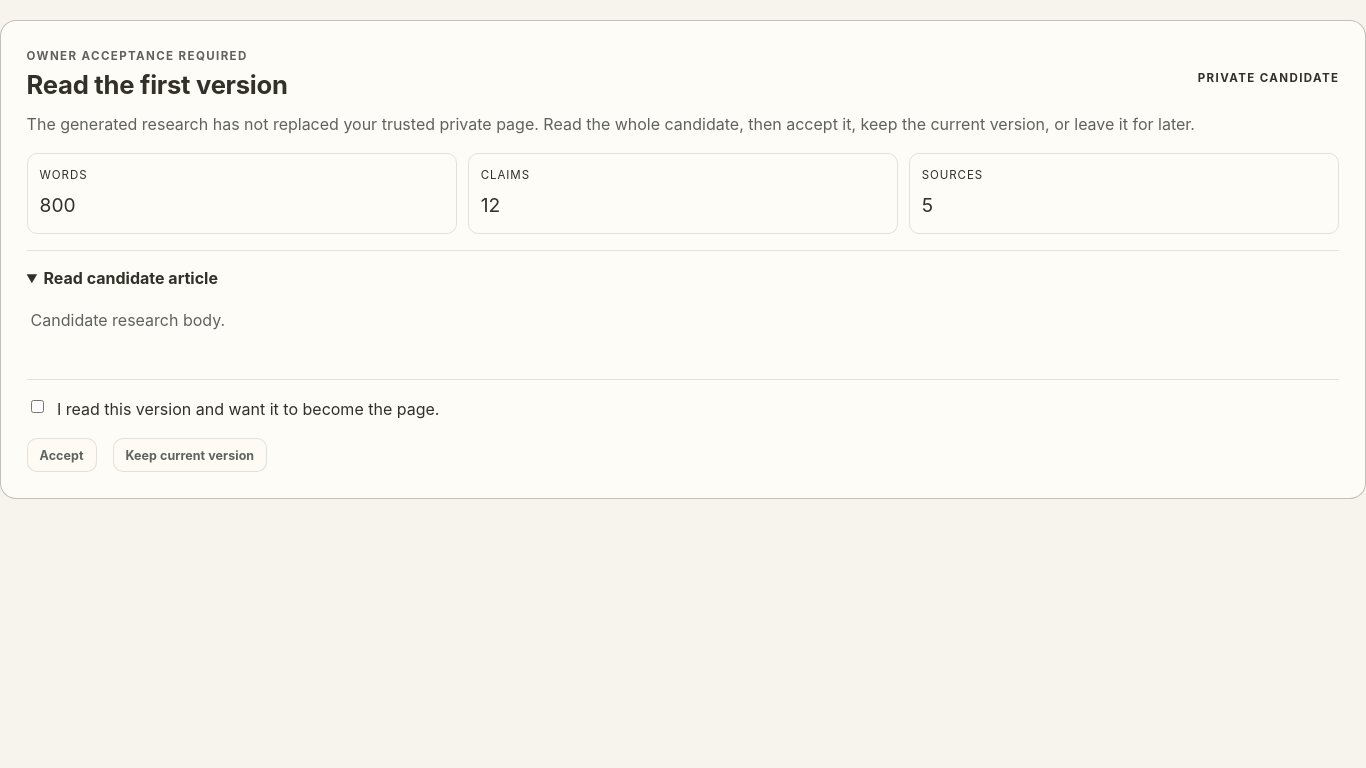
says why a refused accept was refused, and blames a newer page only when there is one
Expected: the text "Candidate research body." is shown, [31,310,225,330]
Click the checkbox at (37, 407), box [31,400,44,413]
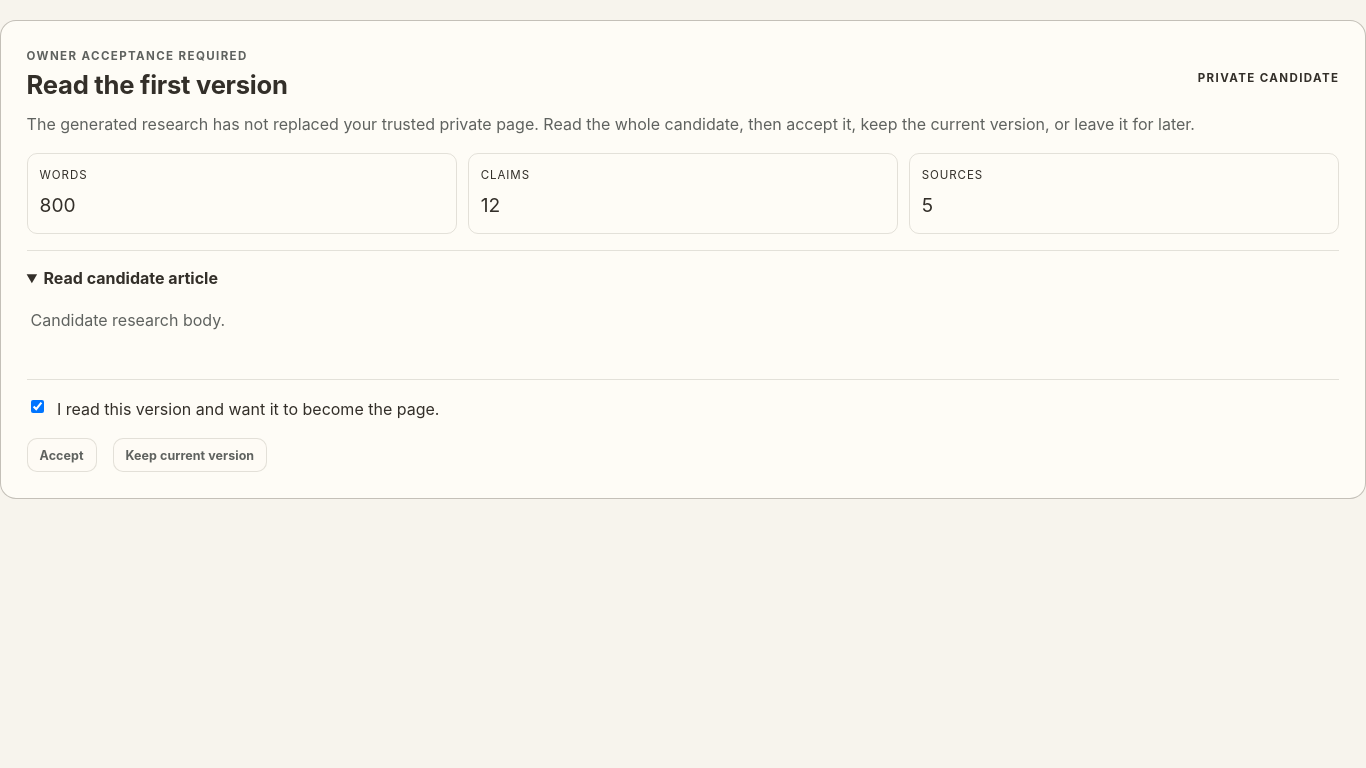
Click the button "Accept" at (62, 455), box [27,438,96,472]
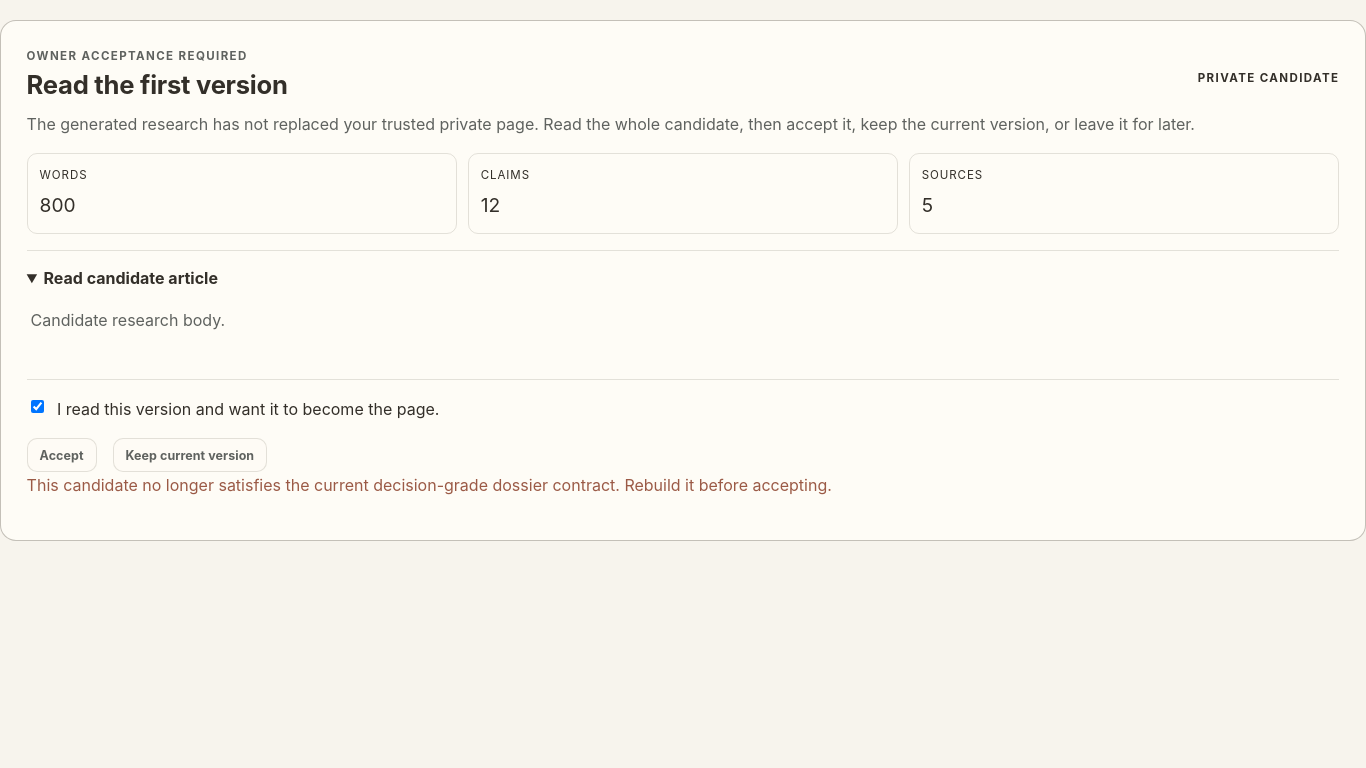
Expected: the text "no longer satisfies the current decision-grade dossier contract" is shown, [27,475,832,495]
